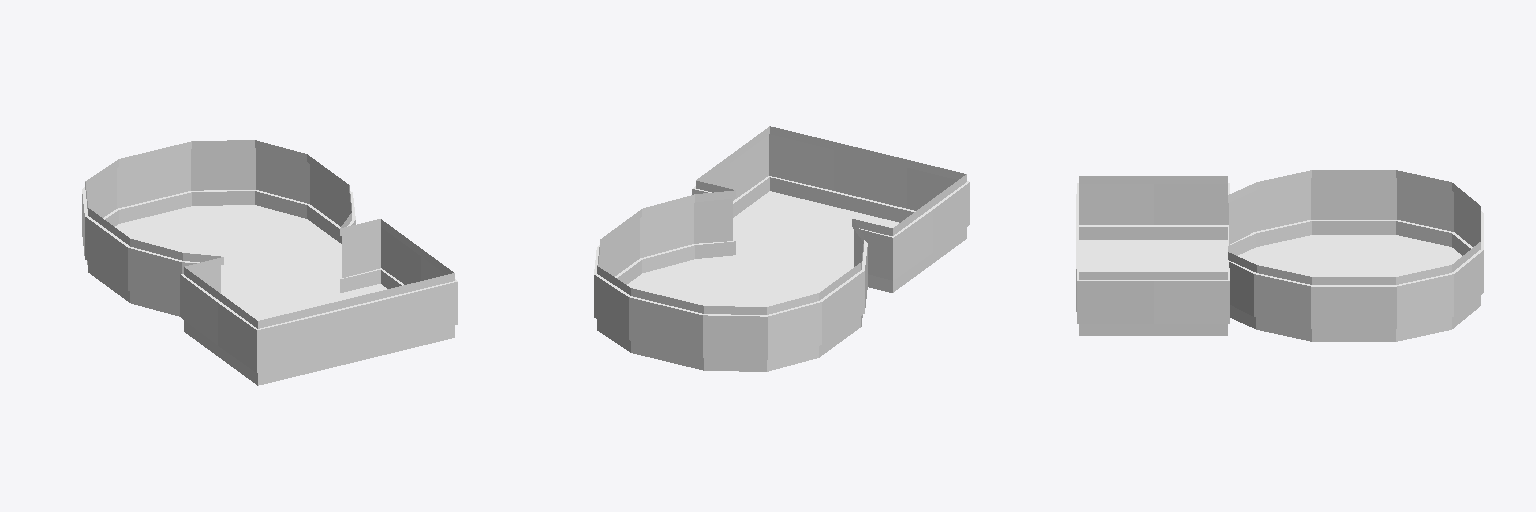
The model's file is room_def.obj.
3 views of the same model, side by side, from view 1: azimuth 30°, elevation 25°; view 2: azimuth 150°, elevation 25°; view 3: azimuth 270°, elevation 25° (orthographic).
Parts seen in each view (by area): view 1: StoneWall3, polySurface77; view 2: StoneWall3, polySurface77; view 3: StoneWall3, polySurface77.
Part boxes in pixels (bbox=[...]): StoneWall3: bbox=[82, 140, 457, 372]; polySurface77: bbox=[87, 190, 454, 385]; StoneWall3: bbox=[594, 126, 969, 359]; polySurface77: bbox=[597, 176, 966, 371]; StoneWall3: bbox=[1076, 170, 1483, 328]; polySurface77: bbox=[1079, 220, 1480, 341].
Bounding box in the file's own units: 36.37 × 10.03 × 57.15.